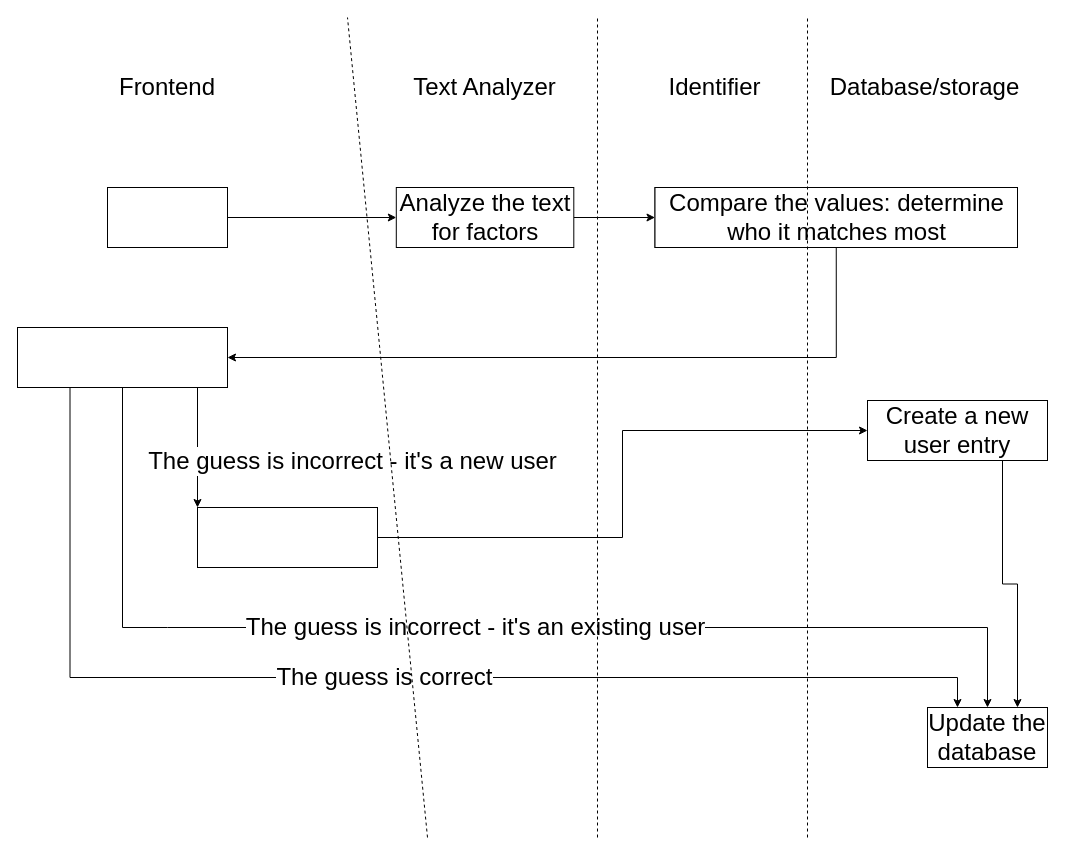
Some shapes in this 1065 by 856 pixel diagram are drawn without their labels. Here are the shapes that lost their labels. From the top down, the centre of each, then its label:
point 167,217: Get input from user
point 122,357: Confirm the guess with the user
point 287,537: Prompt for new name/ID
